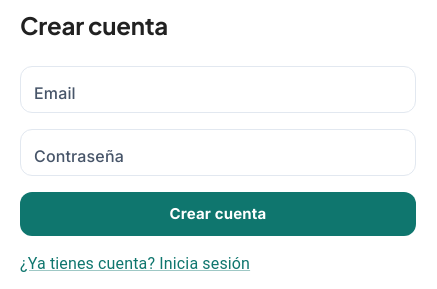
Test: SignupView › disables the button while the request is pending
Step 1. Type "trainer@example.com" into the field labelled "Email" → (218, 89), box [20, 66, 416, 113]
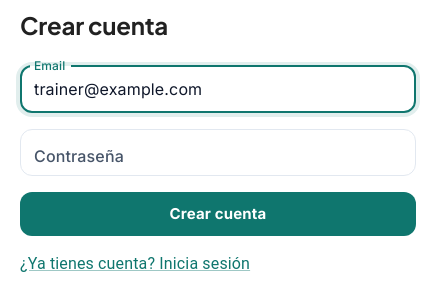
Step 2. Type "Str0ng!pass" into the password field labelled "Contraseña" → (218, 152), box [20, 129, 416, 176]
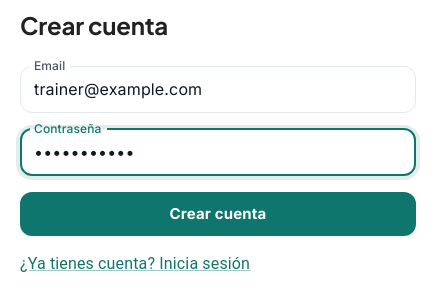
Step 3. Click the button "Crear cuenta" → click(218, 214), box [20, 192, 416, 236]
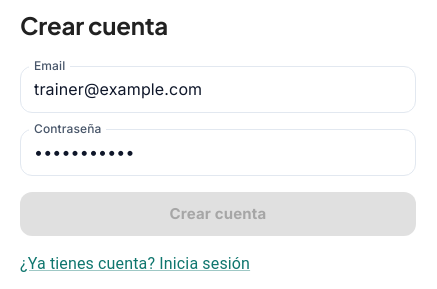
Check: the button "Crear cuenta" is disabled, box [20, 192, 416, 236]
